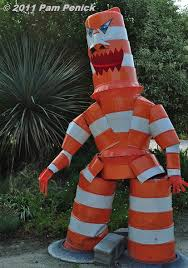barrel: (83, 15, 144, 93), (61, 178, 115, 251), (130, 175, 174, 262), (87, 103, 152, 158), (164, 147, 181, 175)
